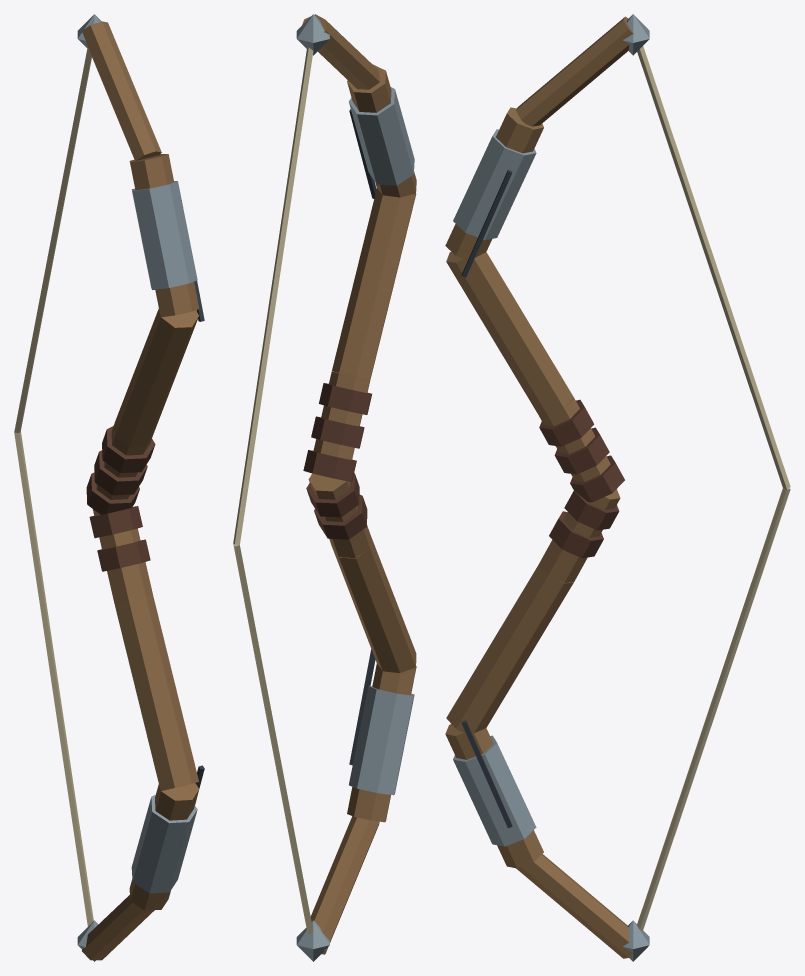
File: bow_iron.glb
3 renders of one model, left to right at view 1: azimuth 30°, elevation 25°; view 2: azimuth 150°, elevation 25°; view 3: azimuth 270°, elevation 25°, orthographic.
Visible parts, largest first — view 1: geometry; view 2: geometry; view 3: geometry.
Part boxes in pixels (x1,y1,x2,y2): geometry: (14,14,204,961); geometry: (233,14,416,961); geometry: (445,14,790,961).
Size of the model in its own units: 0.071 by 1.36 by 0.449.
